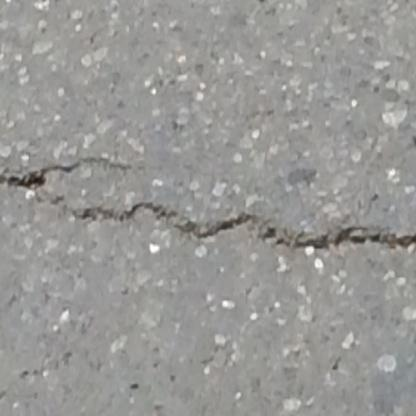Cracks: (68, 199, 255, 245), (0, 154, 134, 210), (254, 222, 416, 255)
